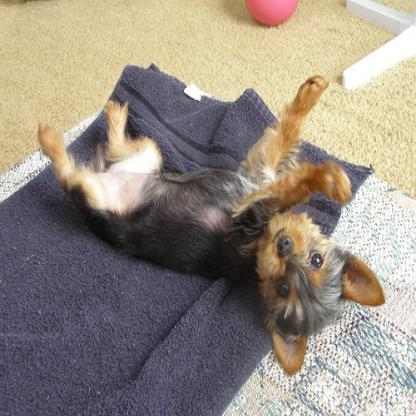dog: (38, 74, 385, 376)
